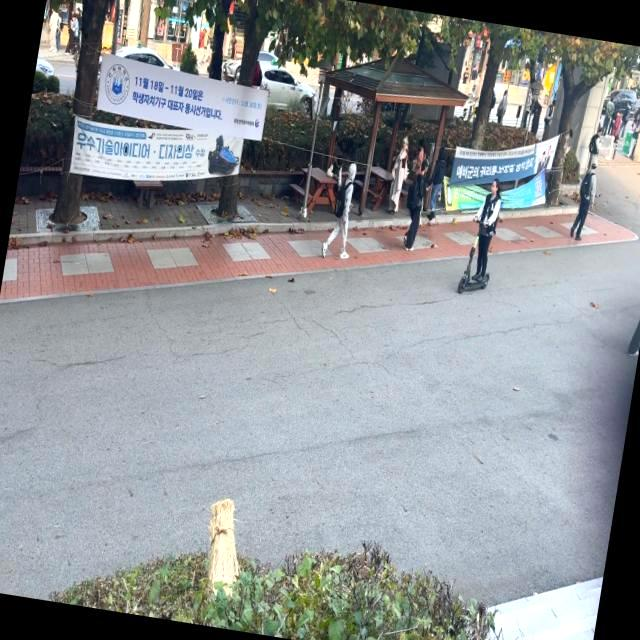bare_head: (483, 173, 508, 197)
human: (479, 169, 503, 275)
kickboard: (452, 271, 510, 296)
